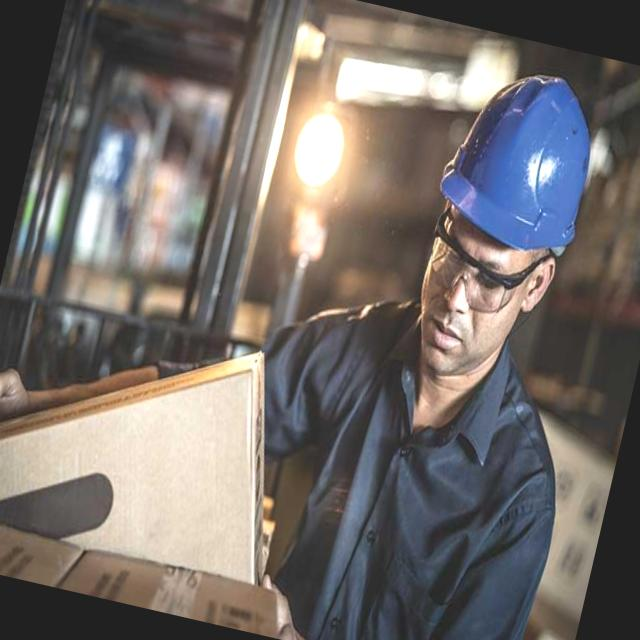helmet: (420, 40, 620, 278)
no-vest: (262, 274, 585, 640)
